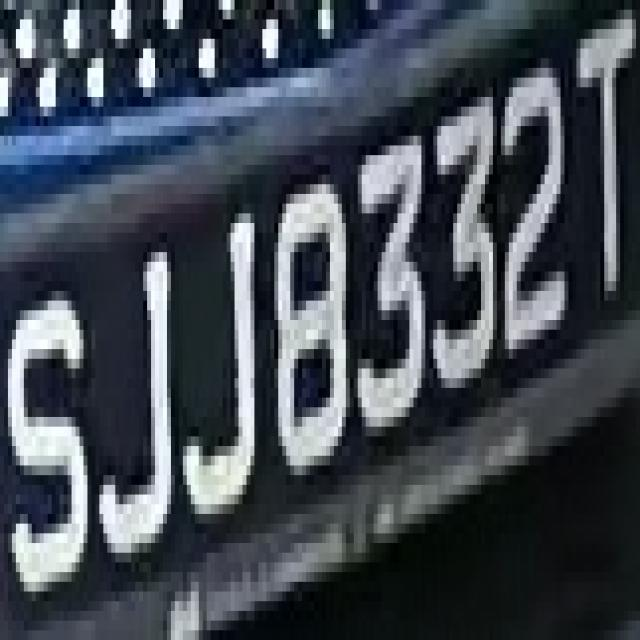2: (497, 48, 572, 388)
3: (413, 58, 493, 398), (350, 97, 425, 436)
8: (258, 146, 362, 494)
J: (83, 204, 175, 592), (171, 174, 266, 534)
S: (12, 262, 87, 611)
T: (4, 0, 4, 5)
